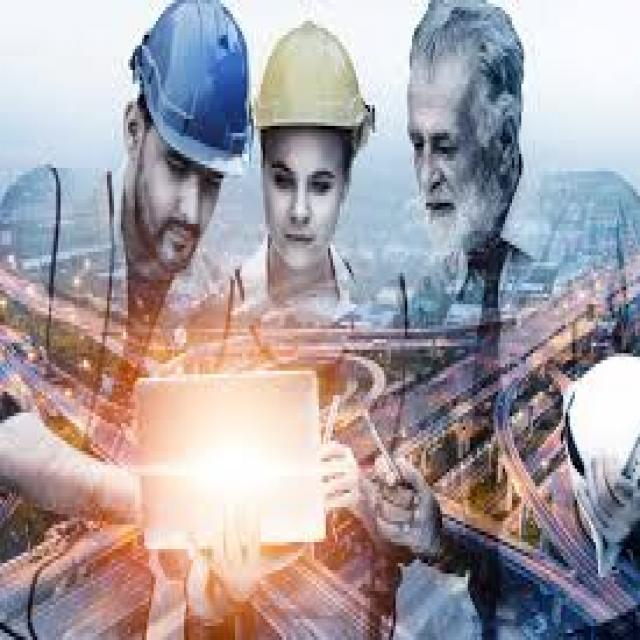Safety-Helmet: (130, 3, 256, 178), (249, 14, 375, 154)
